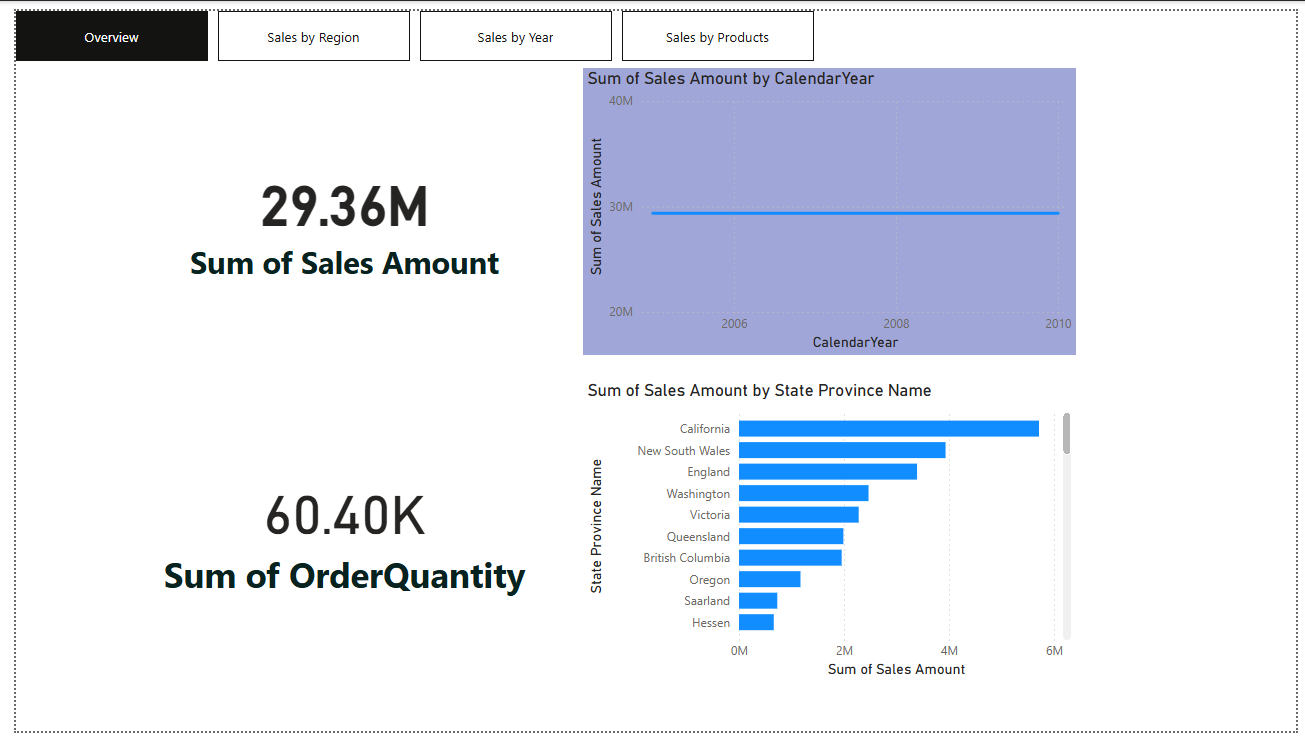

The page's visual inventory and layout, read from the dashboard file:
{"tool":"powerbi","page":{"name":"Overview","canvas":[1280,720],"ordinal":0},"visuals":[{"type":"card","fields":{"Values":["Sum(FactInternetSales.SalesAmount)"]},"box":[100.2,56.7,457.3,302.4],"z":0},{"type":"card","fields":{"Values":["Sum(FactInternetSales.OrderQuantity)"]},"box":[100,369,457,302],"z":1000},{"type":"lineChart","fields":{"Y":["Sum(FactInternetSales.SalesAmount)"],"Category":["DimDate.CalendarYear"]},"box":[566.9,56.7,493.2,287.2],"z":2000},{"type":"clusteredBarChart","fields":{"Y":["Sum(FactInternetSales.SalesAmount)"],"Category":["DimGeography.StateProvinceName"]},"box":[567,369,493,302],"z":3000}]}

Visuals, with their boxes in screenshot pixels (x1, y1, x2, y2), scaled from the page's 1280x720 canvas onto the 1305x741 screenshot:
card - Sum(FactInternetSales.SalesAmount): (102, 58, 568, 370)
card - Sum(FactInternetSales.OrderQuantity): (102, 380, 568, 691)
lineChart - Sum(FactInternetSales.SalesAmount) x DimDate.CalendarYear: (578, 58, 1081, 354)
clusteredBarChart - Sum(FactInternetSales.SalesAmount) x DimGeography.StateProvinceName: (578, 380, 1081, 691)
